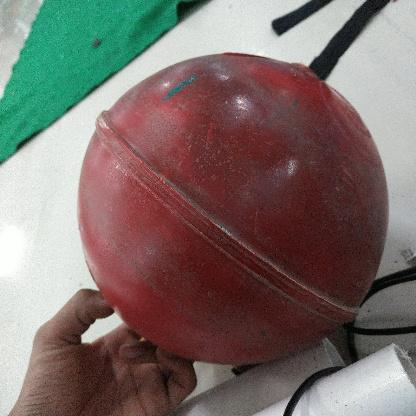red_buoy: (78, 51, 392, 366)
